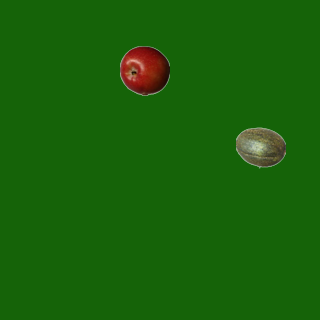Apple Braeburn: (119, 45, 169, 95)
Melon Piel de Sapo: (235, 122, 285, 172)
